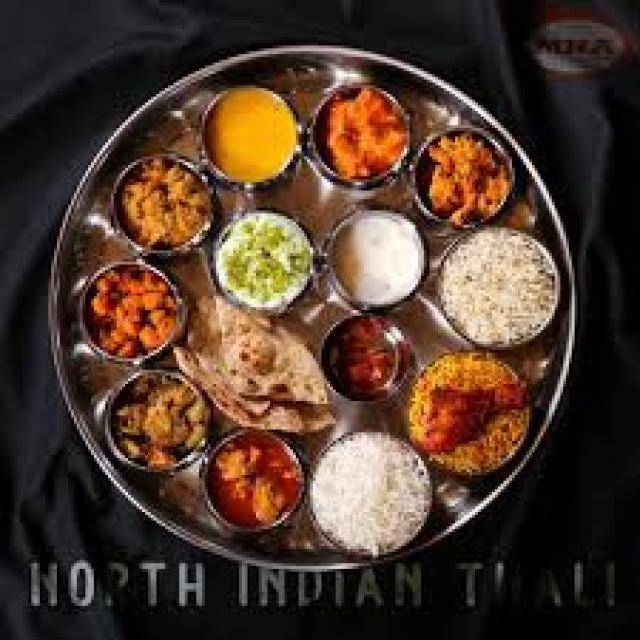curd: (322, 210, 435, 311)
dal: (195, 85, 307, 187)
raita: (321, 212, 439, 311)
rice: (298, 424, 439, 561), (433, 227, 563, 351), (206, 205, 325, 315)
roti: (181, 295, 339, 444)
sweet: (198, 428, 312, 539), (316, 312, 417, 406)
veg-fry: (401, 342, 539, 480), (407, 118, 523, 238), (80, 252, 195, 368), (307, 77, 425, 189)
